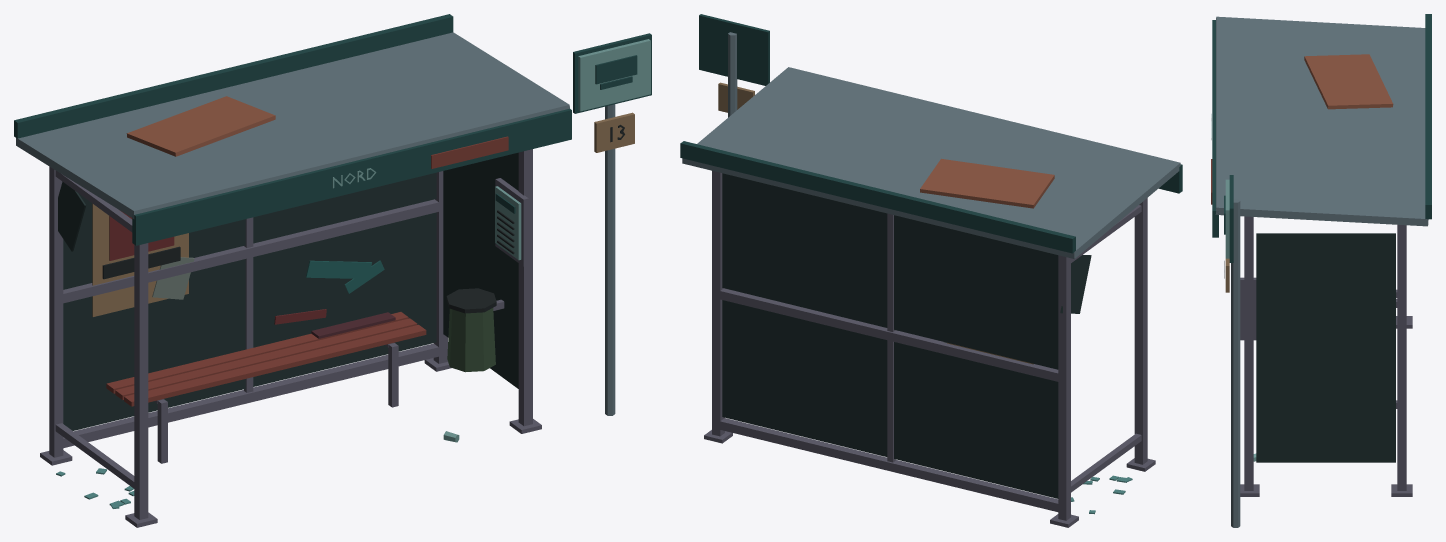
File: statie_nord.glb
The picture shows the model from 3 angles, left to right: view 1: azimuth 30°, elevation 25°; view 2: azimuth 150°, elevation 25°; view 3: azimuth 270°, elevation 25°; orthographic projection. The views are drawn at different scales.
Parts seen in each view (by area): view 1: Statie, Geamuri; view 2: Geamuri, Statie; view 3: Statie, Geamuri.
Part boxes in pixels (x1,y1,x2,y2): Statie: [14, 14, 651, 527]; Geamuri: [58, 152, 518, 430]; Geamuri: [722, 173, 1091, 498]; Statie: [680, 14, 1182, 527]; Statie: [1211, 14, 1431, 527]; Geamuri: [1256, 233, 1395, 462].
Bounding box in the file's own units: 4.1 × 2.77 × 1.66.
